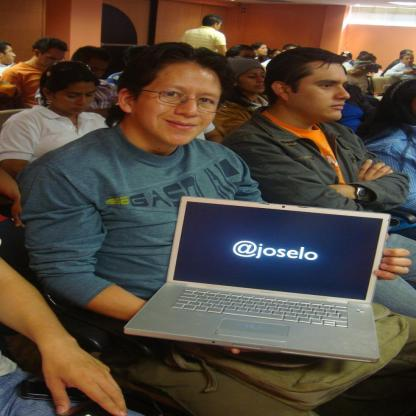board: (119, 194, 404, 368)
